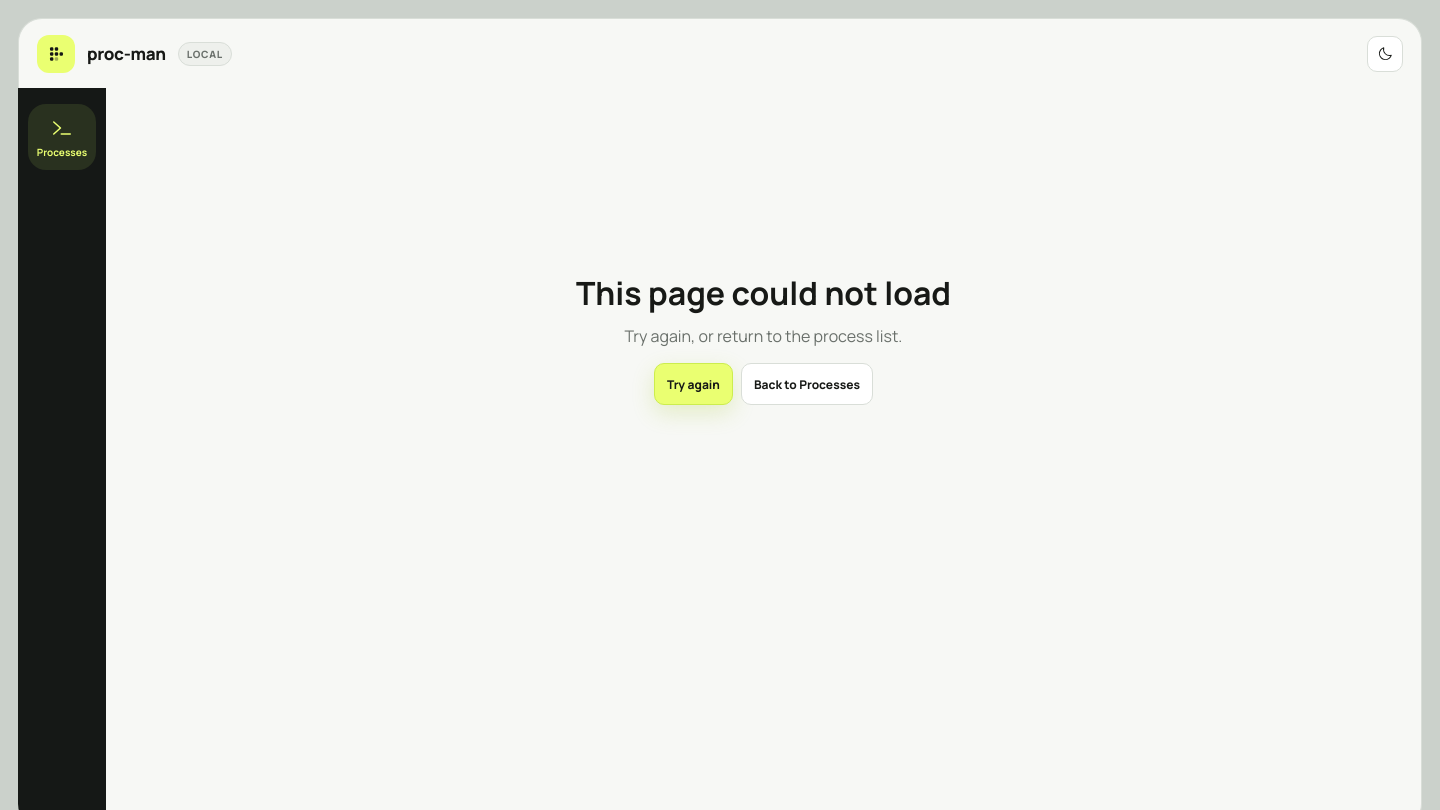
Test case: App navigation › keeps the application shell available when a process page render fails
Expected: the heading "This page could not load" is shown, [576, 271, 951, 315]
Expected: the link with aria-label "proc-man home" is shown, [37, 34, 166, 72]
Click the button "Try again".
click(693, 384)  # box [654, 363, 733, 405]
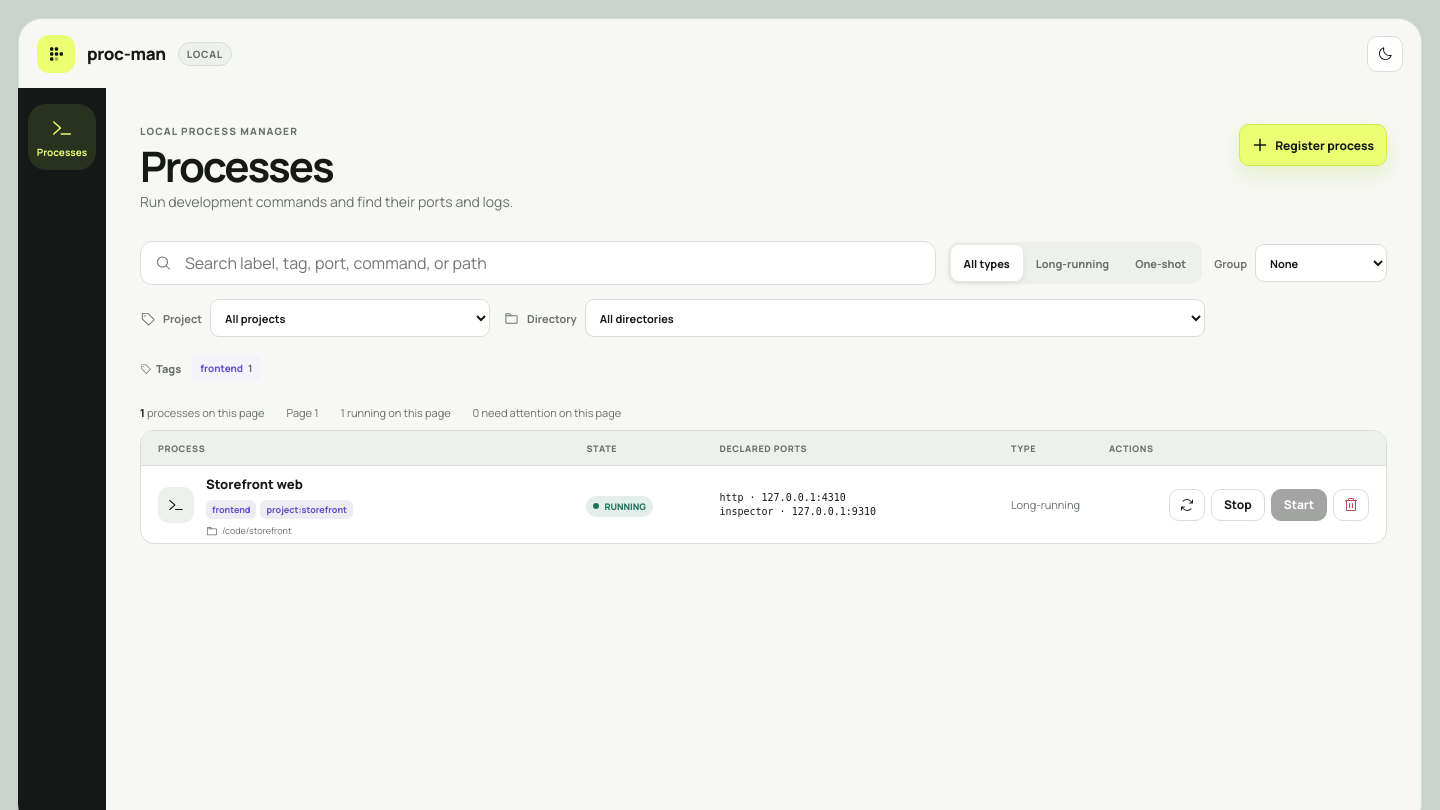
Result: the button "Storefront web" is shown at [206, 475, 303, 493]
